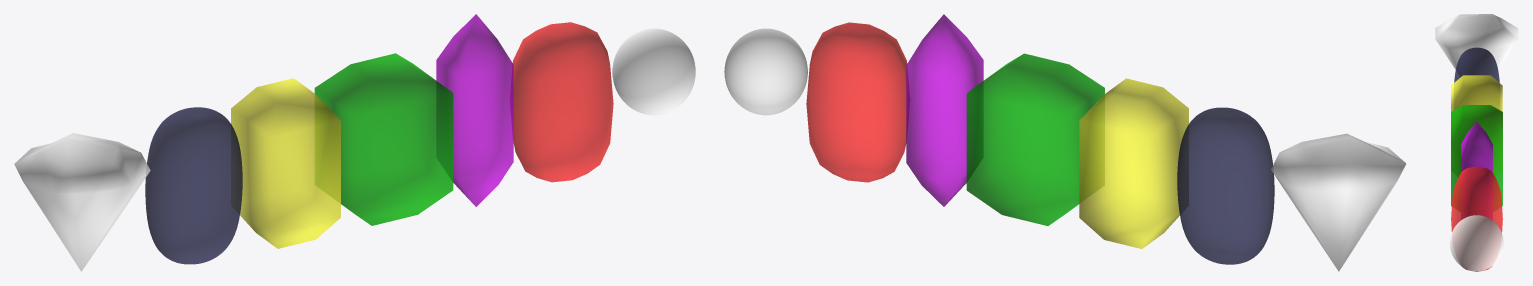
The model's file is gems2.obj.
3 views of the same model, side by side, from view 1: azimuth 30°, elevation 25°; view 2: azimuth 150°, elevation 25°; view 3: azimuth 270°, elevation 25° (orthographic). The views are drawn at different scales.
Parts seen in each view (by area): view 1: 3DSMesh_0_0, 3DSMesh_1_1, 3DSMesh_3_3, 3DSMesh_4_4, 3DSMesh_6_8, 3DSMesh_2_2, 3DSMesh_5_5; view 2: 3DSMesh_0_0, 3DSMesh_1_1, 3DSMesh_3_3, 3DSMesh_4_4, 3DSMesh_6_8, 3DSMesh_2_2, 3DSMesh_5_5; view 3: 3DSMesh_6_8, 3DSMesh_3_3, 3DSMesh_0_0, 3DSMesh_5_5, 3DSMesh_1_1, 3DSMesh_2_2, 3DSMesh_4_4.
Part boxes in pixels (bbox=[...]): 3DSMesh_0_0: bbox=[314, 53, 453, 225]; 3DSMesh_1_1: bbox=[231, 78, 340, 248]; 3DSMesh_3_3: bbox=[512, 22, 613, 182]; 3DSMesh_4_4: bbox=[145, 107, 242, 264]; 3DSMesh_6_8: bbox=[14, 133, 150, 271]; 3DSMesh_2_2: bbox=[436, 14, 513, 206]; 3DSMesh_5_5: bbox=[612, 28, 695, 115]; 3DSMesh_0_0: bbox=[966, 53, 1104, 225]; 3DSMesh_1_1: bbox=[1079, 78, 1188, 248]; 3DSMesh_3_3: bbox=[806, 22, 907, 182]; 3DSMesh_4_4: bbox=[1177, 107, 1274, 264]; 3DSMesh_6_8: bbox=[1271, 133, 1406, 271]; 3DSMesh_2_2: bbox=[906, 14, 983, 206]; 3DSMesh_5_5: bbox=[724, 28, 807, 115]; 3DSMesh_6_8: bbox=[1435, 14, 1518, 69]; 3DSMesh_3_3: bbox=[1451, 166, 1502, 271]; 3DSMesh_0_0: bbox=[1451, 105, 1502, 206]; 3DSMesh_5_5: bbox=[1449, 215, 1503, 271]; 3DSMesh_1_1: bbox=[1451, 75, 1502, 111]; 3DSMesh_2_2: bbox=[1461, 122, 1492, 172]; 3DSMesh_4_4: bbox=[1454, 47, 1499, 82].
Size of the model in its own units: 143 by 39.56 by 23.9.
